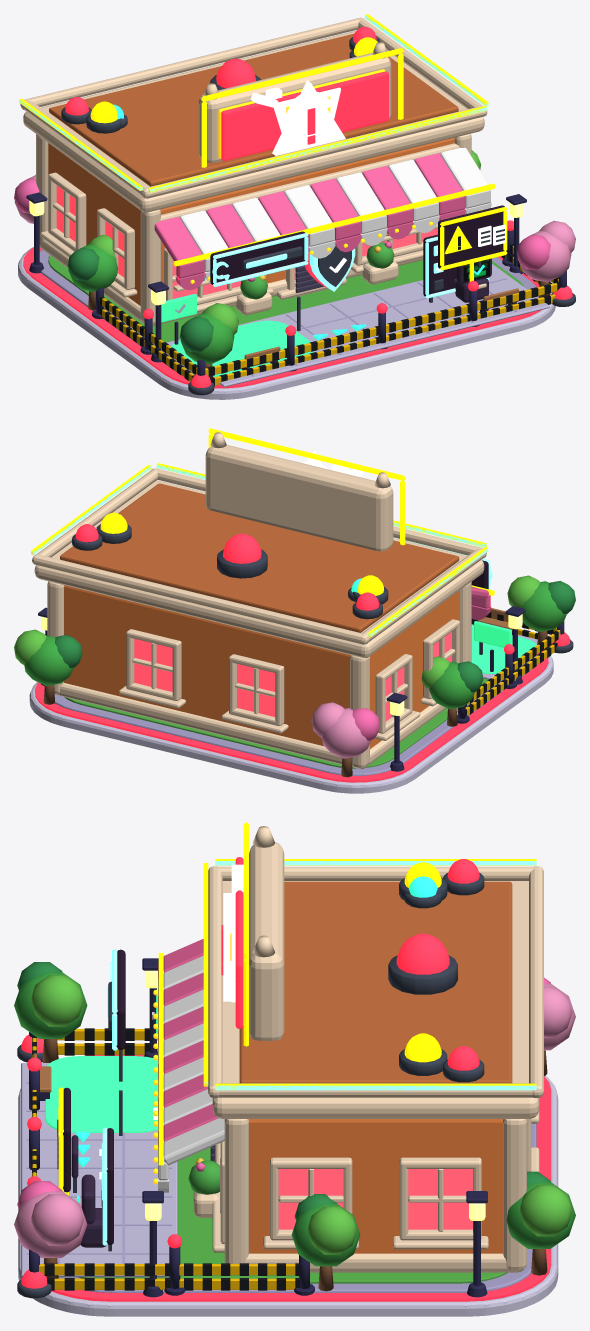
The picture shows the model from 3 angles, top to bottom: view 1: azimuth 30°, elevation 25°; view 2: azimuth 150°, elevation 25°; view 3: azimuth 270°, elevation 25°; orthographic projection. The views are drawn at different scales.
Visible parts, largest first — view 1: B04_roof, B04_awning, B04_plot, B04_state_incident_barrier_tape, B04_body, B04_plaza, B04_trees_leaf, B04_state_incident_sign_overlay, B04_windows, B04_state_warning_amber_trim, B04_sign_frame, B04_state_incident_plot_ring (+18 smaller); view 2: B04_roof, B04_body, B04_sign_frame, B04_plot, B04_trees_leaf, B04_windows, B04_state_incident_plot_ring, B04_state_incident_window_glow, B04_state_incident_barrier_tape, B04_state_warning_amber_trim, B04_state_incident_assembly_zone, B04_state_incident_siren_beacon (+10 smaller); view 3: B04_roof, B04_body, B04_plot, B04_trees_leaf, B04_plaza, B04_state_incident_barrier_tape, B04_awning, B04_windows, B04_state_incident_assembly_zone, B04_sign_frame, B04_state_incident_plot_ring, B04_state_incident_window_glow (+19 smaller).
Boxes of the visible parts, <box> form: B04_roof: <box>20,17,487,212</box>; B04_awning: <box>154,143,491,290</box>; B04_plot: <box>18,247,555,399</box>; B04_state_incident_barrier_tape: <box>92,220,566,386</box>; B04_body: <box>36,133,471,325</box>; B04_plaza: <box>166,264,549,387</box>; B04_trees_leaf: <box>14,150,575,364</box>; B04_state_incident_sign_overlay: <box>221,71,388,160</box>; B04_windows: <box>40,172,423,312</box>; B04_state_warning_amber_trim: <box>19,14,495,266</box>; B04_sign_frame: <box>198,42,391,162</box>; B04_state_incident_plot_ring: <box>23,247,550,388</box>; B04_roof: <box>32,468,486,657</box>; B04_body: <box>47,581,471,769</box>; B04_sign_frame: <box>205,432,393,551</box>; B04_plot: <box>29,655,553,793</box>; B04_trees_leaf: <box>14,575,575,758</box>; B04_windows: <box>119,619,459,740</box>; B04_state_incident_plot_ring: <box>35,650,548,782</box>; B04_state_incident_window_glow: <box>134,631,451,721</box>; B04_state_incident_barrier_tape: <box>457,612,564,723</box>; B04_state_warning_amber_trim: <box>31,463,494,636</box>; B04_state_incident_assembly_zone: <box>471,621,536,673</box>; B04_state_incident_siren_beacon: <box>217,533,267,578</box>; B04_roof: <box>208,866,543,1118</box>; B04_body: <box>224,1119,526,1272</box>; B04_plot: <box>18,1075,558,1316</box>; B04_trees_leaf: <box>14,962,575,1266</box>; B04_plaza: <box>21,1063,177,1277</box>; B04_state_incident_barrier_tape: <box>27,1028,314,1295</box>; B04_awning: <box>158,939,224,1192</box>; B04_windows: <box>212,1110,539,1252</box>; B04_state_incident_assembly_zone: <box>45,995,157,1167</box>; B04_sign_frame: <box>249,826,284,1040</box>; B04_state_incident_plot_ring: <box>52,1055,551,1301</box>; B04_state_incident_window_glow: <box>278,1169,472,1229</box>.
Size of the model in its own units: 23.54 by 13.45 by 20.82.
45 materials, 2 textured.
